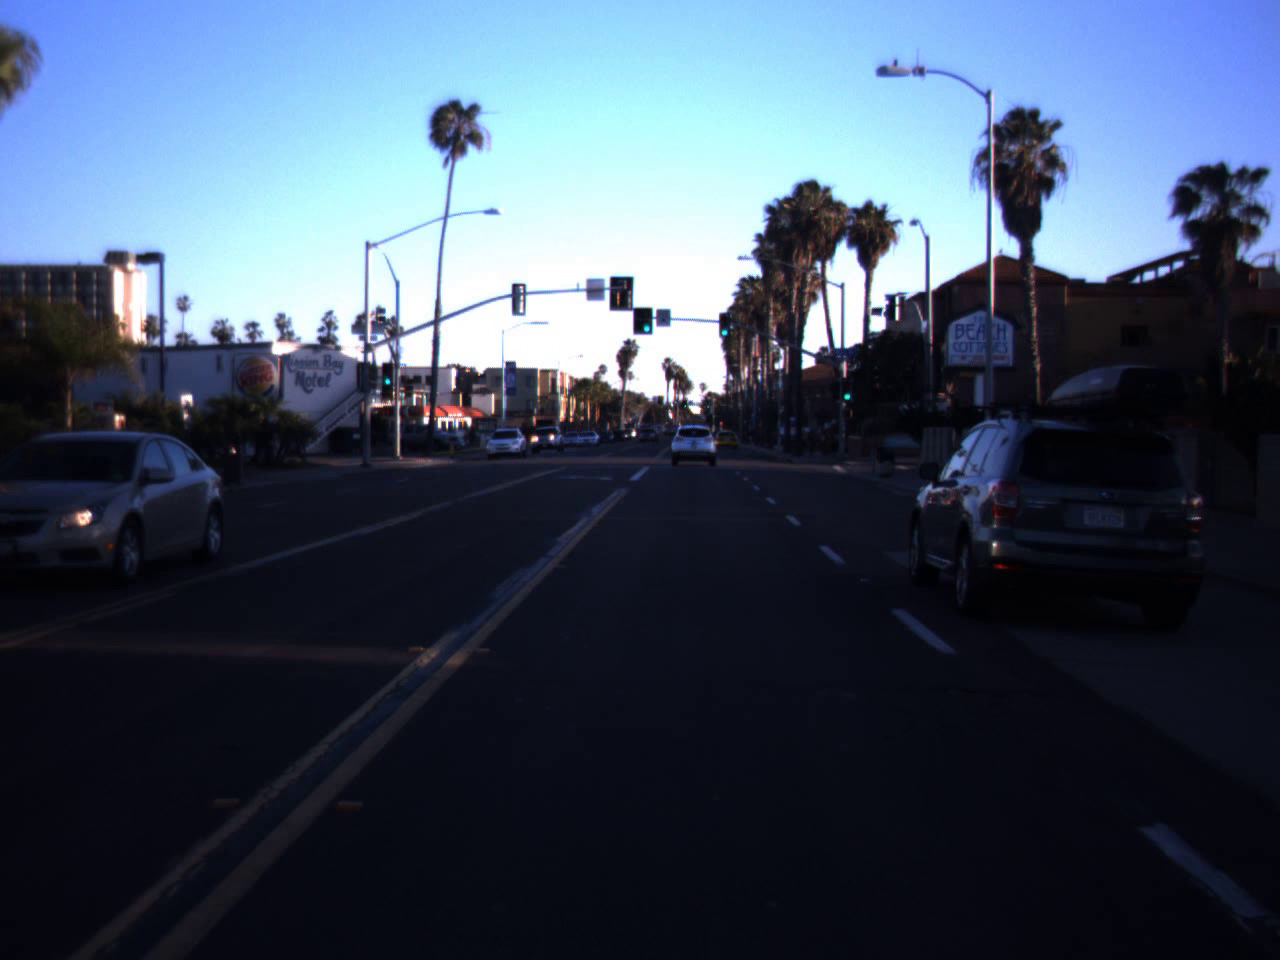go: (717, 312, 732, 337), (639, 313, 654, 333), (842, 381, 854, 401), (382, 366, 394, 386)
